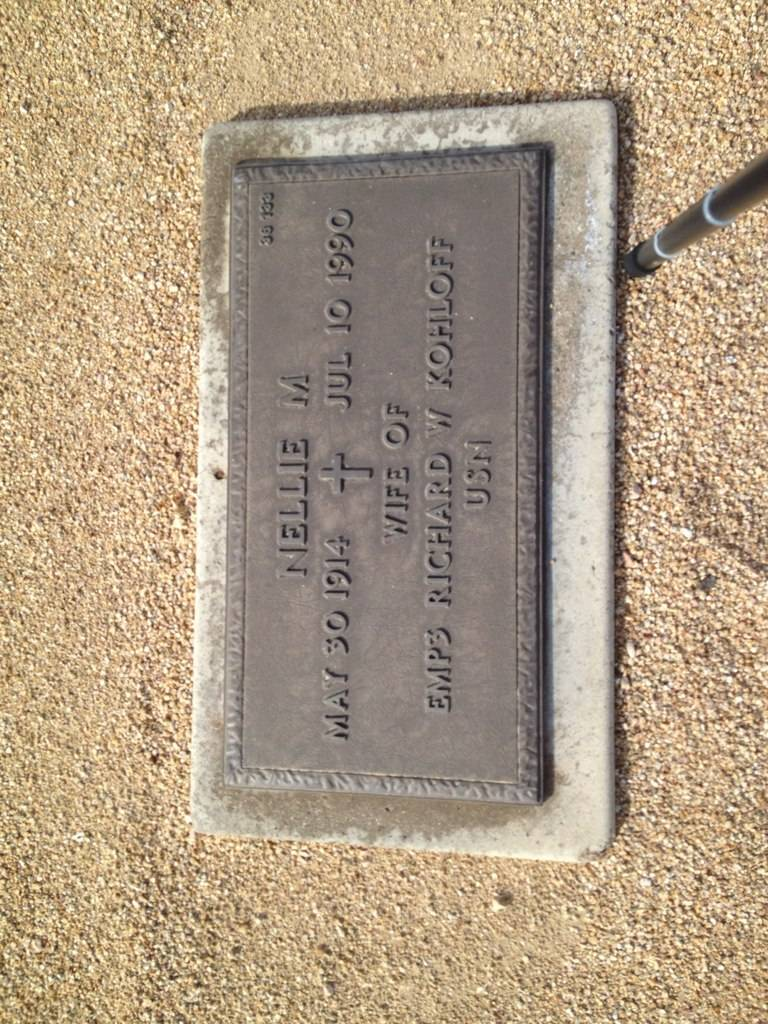flat: (189, 93, 623, 862)
